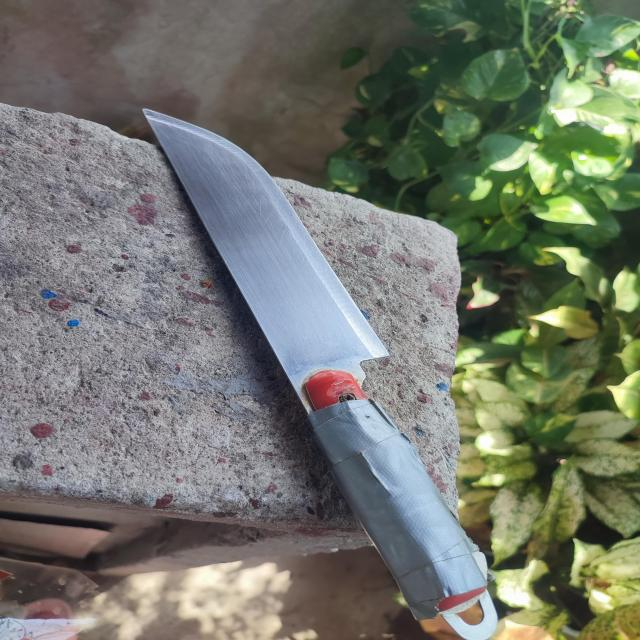knife: (145, 110, 497, 640)
